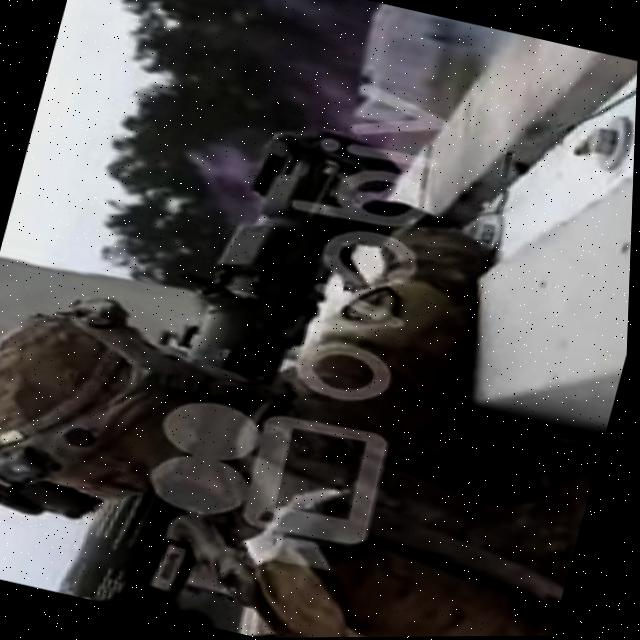rocket: (45, 98, 421, 640)
